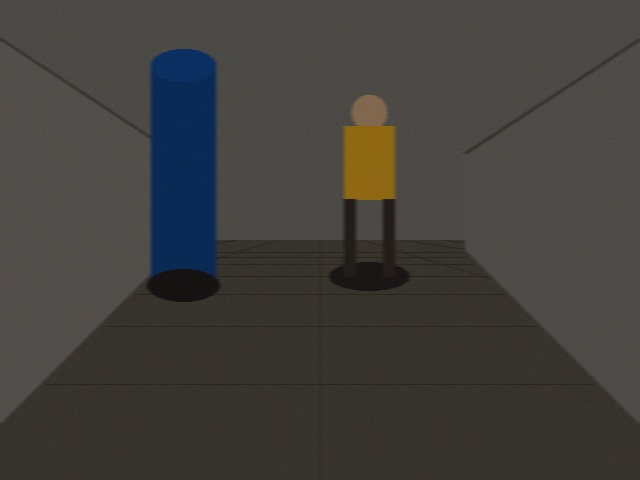person: (151, 65, 215, 285), (333, 94, 405, 276)
